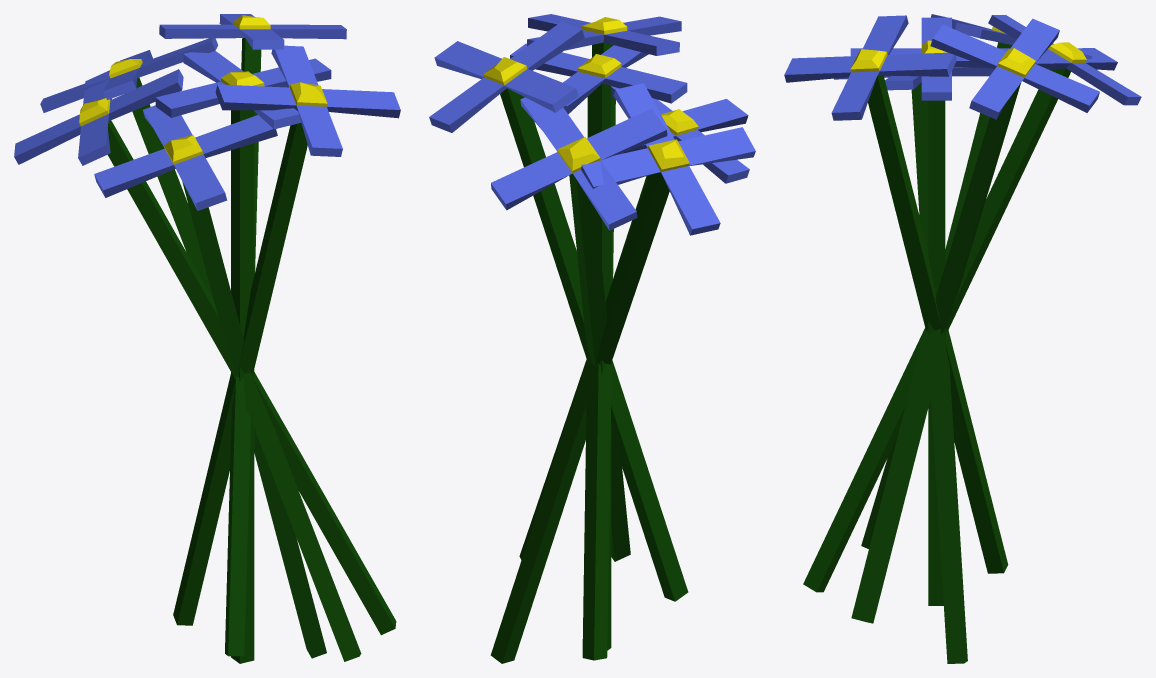
Rendered from fiore.fbx.
3 views of the same model, side by side, from view 1: azimuth 30°, elevation 25°; view 2: azimuth 150°, elevation 25°; view 3: azimuth 270°, elevation 25° (orthographic). The views are drawn at different scales.
Visible parts, largest first — view 1: Cube.012, Cube.014, Cube.004; view 2: Cube.012, Cube.014, Cube.004; view 3: Cube.012, Cube.014, Cube.004.
Boxes of the visible parts, x1,y1,x2,y2 form: Cube.012: (107,38,396,663); Cube.014: (14,14,400,210); Cube.004: (79,15,327,164); Cube.012: (490,42,688,663); Cube.014: (429,14,755,235); Cube.004: (483,17,698,173); Cube.012: (803,42,1070,663); Cube.014: (784,14,1141,120); Cube.004: (850,26,1086,77).
Bounding box in the file's own units: 11.13 × 22.2 × 11.84.
